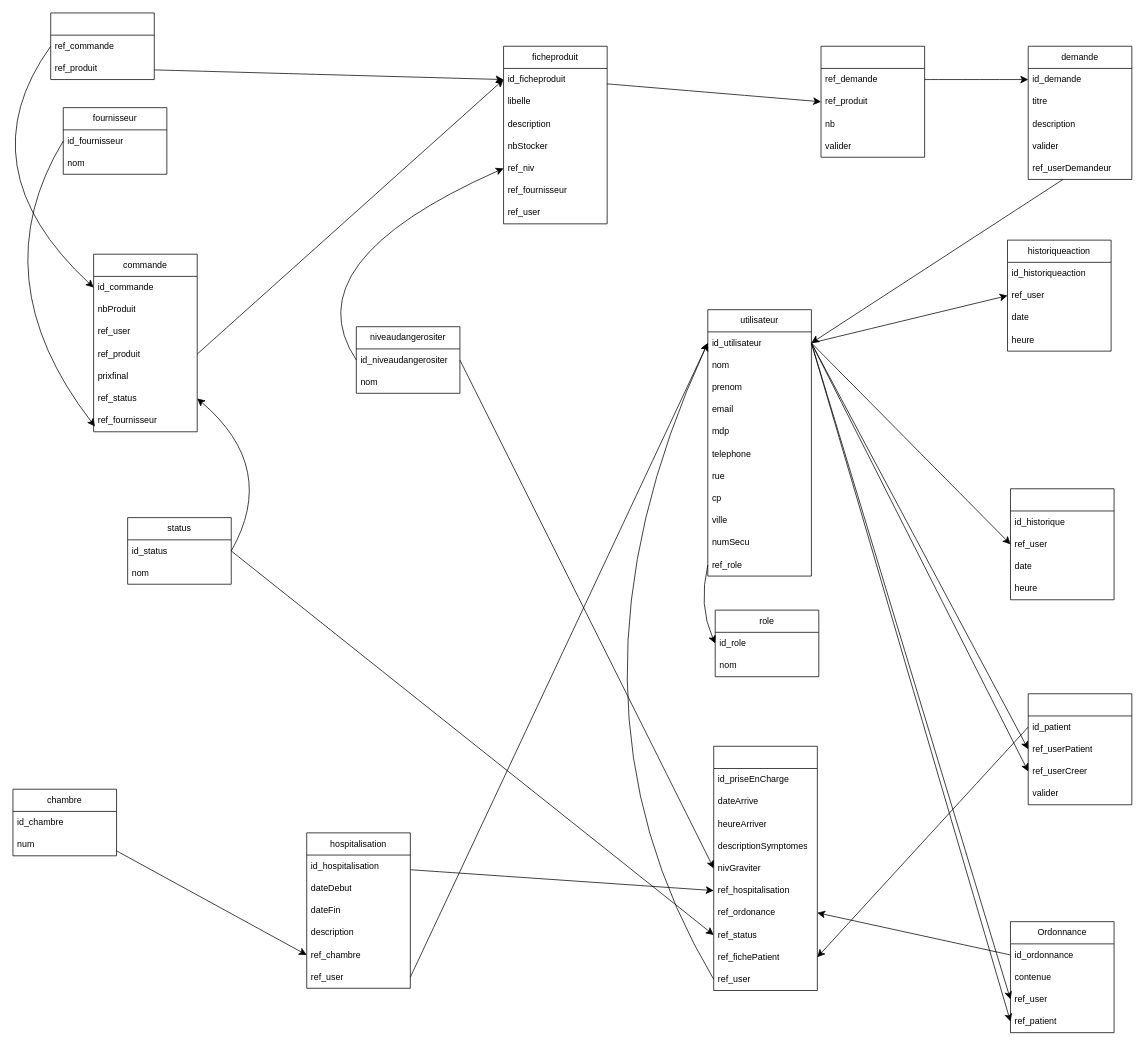
Image size: 1145x1046. Some labels were removed from this diagram. Here are the shapes that lost their labels. From the top down, the box of each, then its label:
(50, 12, 154, 80): commandeproduit
(820, 46, 925, 157): demandeproduit
(1010, 488, 1114, 600): historiqueconnexion
(1027, 693, 1132, 805): fichepatient
(713, 746, 817, 990): dossier_priseencharge
